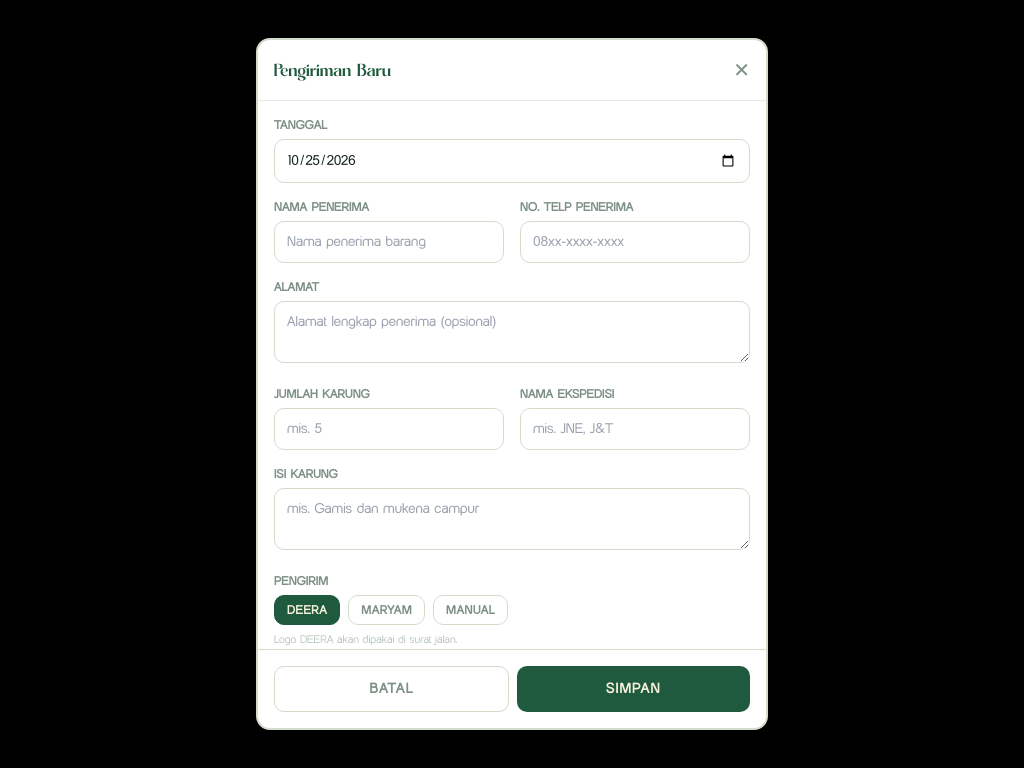
Scenario: PengirimanForm › autocomplete daftar penerima (reuse pelanggan, permintaan Denny 2026-08) › klik saran mengisi No Telp/Alamat & set link (badge 'Terhubung ke daftar penerima')
Type "Budi" into the field with placeholder "Nama penerima barang" at (389, 242), box [274,221,504,263]
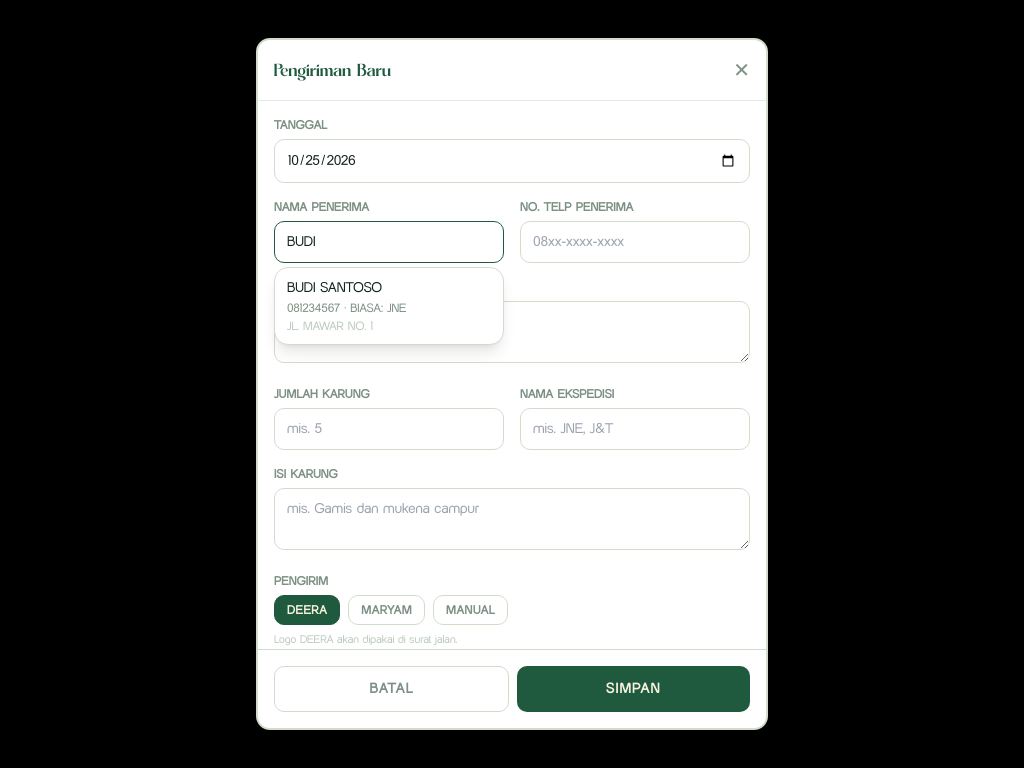
Expected: the text "Jl. Mawar No. 1" is shown
Click the text "Jl. Mawar No. 1" at (330, 326), box [287,318,373,333]
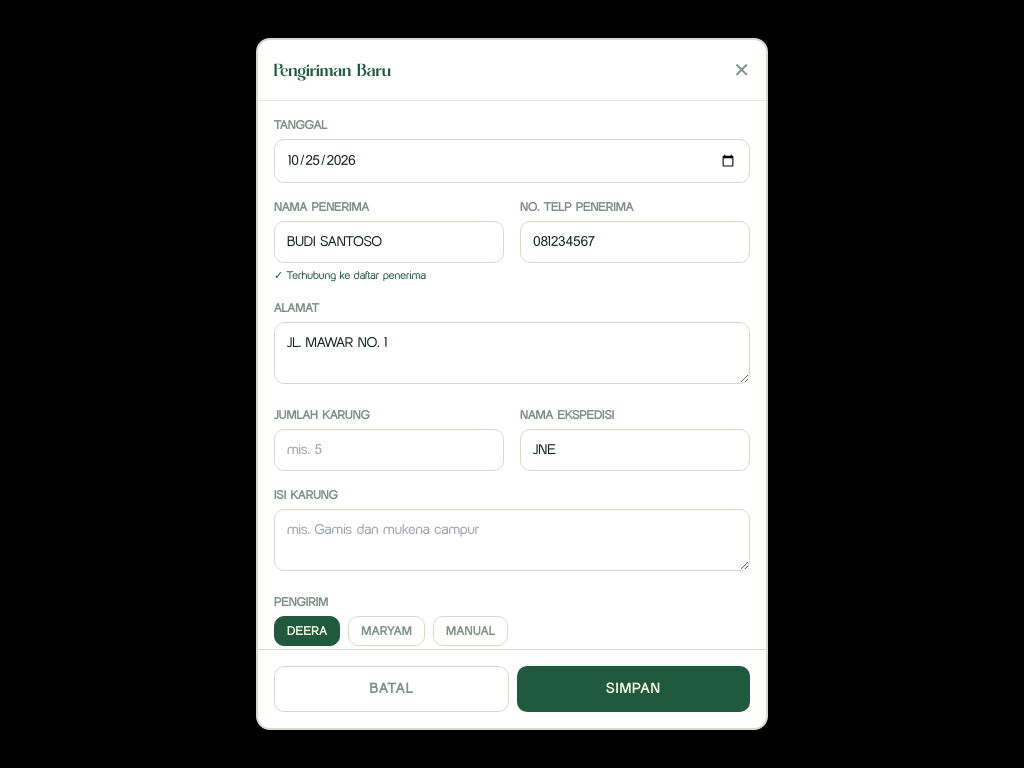
Expected: the field with placeholder "Nama penerima barang" below "Nama Penerima" holds "BUDI SANTOSO", [274,221,504,263]
Expected: the field with placeholder "08xx-xxxx-xxxx" below "No. Telp Penerima" holds "081234567", [520,221,750,263]
Expected: the text box with placeholder "Alamat lengkap penerima (opsional)" holds "JL. MAWAR NO. 1", [274,322,750,384]
